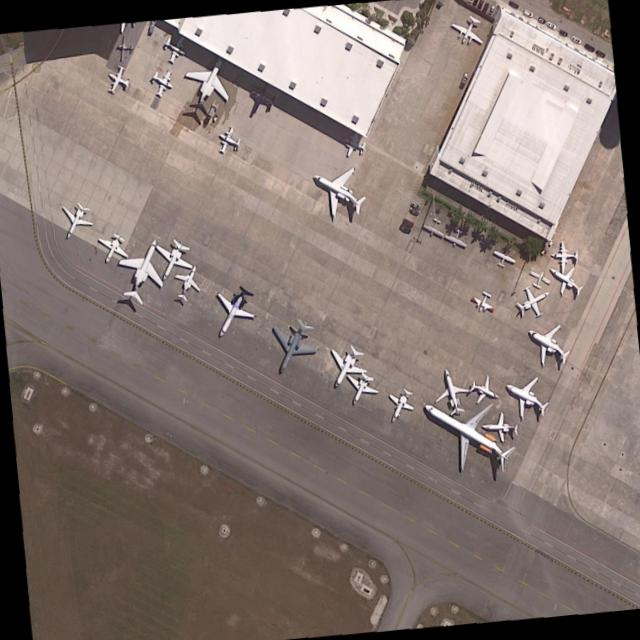large-vehicle: (558, 26, 568, 35)
plane: (408, 369, 529, 488), (107, 226, 177, 310), (256, 306, 328, 387), (173, 43, 242, 122), (304, 149, 375, 225), (200, 273, 265, 348), (518, 309, 579, 373), (497, 364, 557, 427), (316, 333, 373, 396), (145, 230, 201, 289), (52, 194, 99, 246), (428, 363, 473, 417), (542, 255, 589, 302), (337, 363, 382, 410), (90, 225, 135, 271), (512, 276, 556, 322), (379, 381, 420, 428), (446, 8, 490, 51), (168, 257, 208, 304), (243, 75, 281, 122), (466, 368, 506, 411), (213, 119, 246, 157), (146, 61, 179, 99), (480, 409, 519, 441), (159, 28, 192, 65), (102, 60, 134, 97), (340, 126, 371, 161), (468, 285, 500, 318), (550, 238, 578, 272), (420, 212, 448, 240), (443, 222, 471, 250), (489, 244, 517, 271), (526, 265, 553, 292), (116, 32, 135, 62)
small-vehicle: (583, 40, 596, 52), (570, 33, 583, 44), (407, 204, 420, 215), (399, 222, 411, 233), (522, 6, 534, 17), (409, 199, 422, 209), (458, 75, 467, 89), (546, 19, 558, 29), (595, 47, 606, 57), (487, 2, 496, 14), (507, 0, 519, 8), (481, 1, 489, 12), (537, 14, 546, 23), (477, 0, 483, 7), (471, 0, 478, 5)
